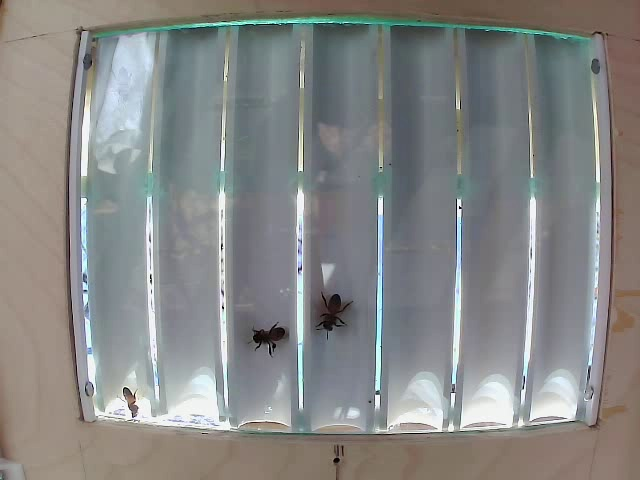bee: (306, 276, 359, 327), (249, 310, 284, 353)
